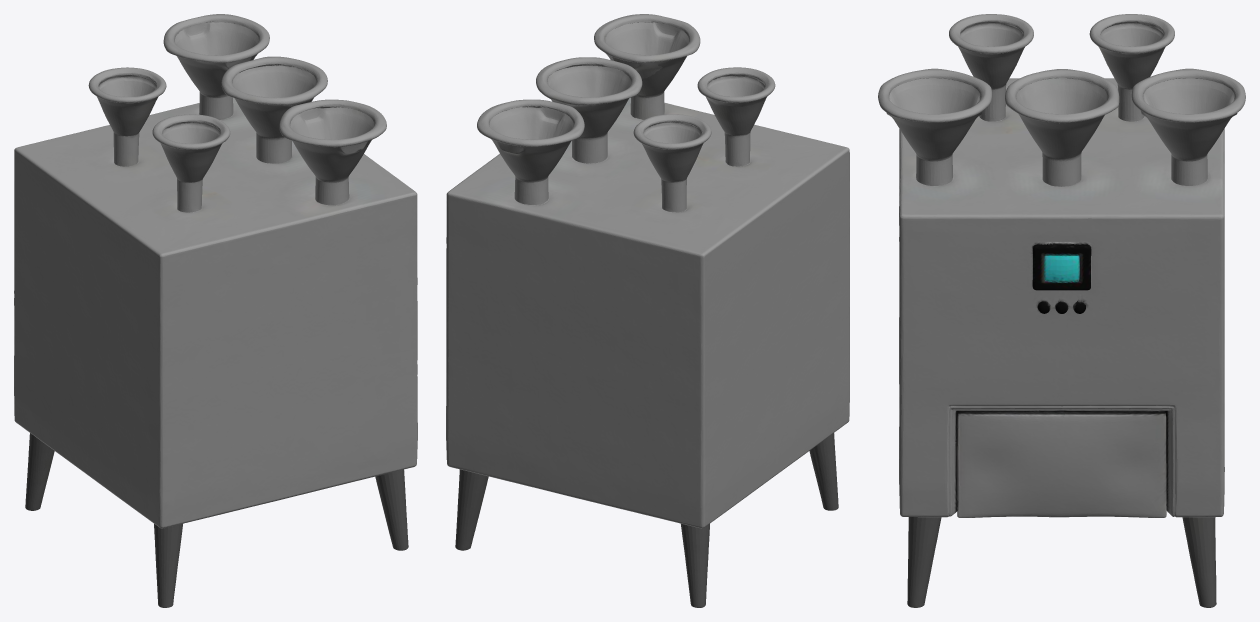
The model's file is 3DMODEL.glb.
3 views of the same model, side by side, from view 1: azimuth 30°, elevation 25°; view 2: azimuth 150°, elevation 25°; view 3: azimuth 270°, elevation 25° (orthographic). The views are drawn at different scales.
Visible parts, largest first — view 1: tripo_node_fe52c463-d53b-437e-a0a3-92880b37c0e6; view 2: tripo_node_fe52c463-d53b-437e-a0a3-92880b37c0e6; view 3: tripo_node_fe52c463-d53b-437e-a0a3-92880b37c0e6.
Boxes of the visible parts, x1=… form: tripo_node_fe52c463-d53b-437e-a0a3-92880b37c0e6: x1=14, y1=14, x2=417, y2=607; tripo_node_fe52c463-d53b-437e-a0a3-92880b37c0e6: x1=446, y1=14, x2=849, y2=607; tripo_node_fe52c463-d53b-437e-a0a3-92880b37c0e6: x1=878, y1=14, x2=1245, y2=607.
Bounding box in the file's own units: 0.638 × 1 × 0.6932.
Materials: 1 (1 with a texture image).
